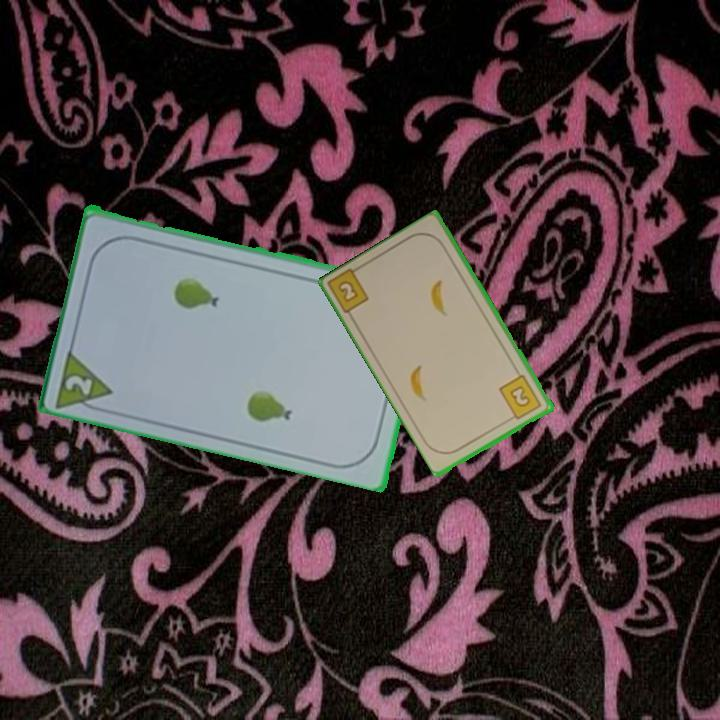2b: (496, 371, 545, 423), (334, 277, 361, 305)
2p: (61, 371, 96, 398)
